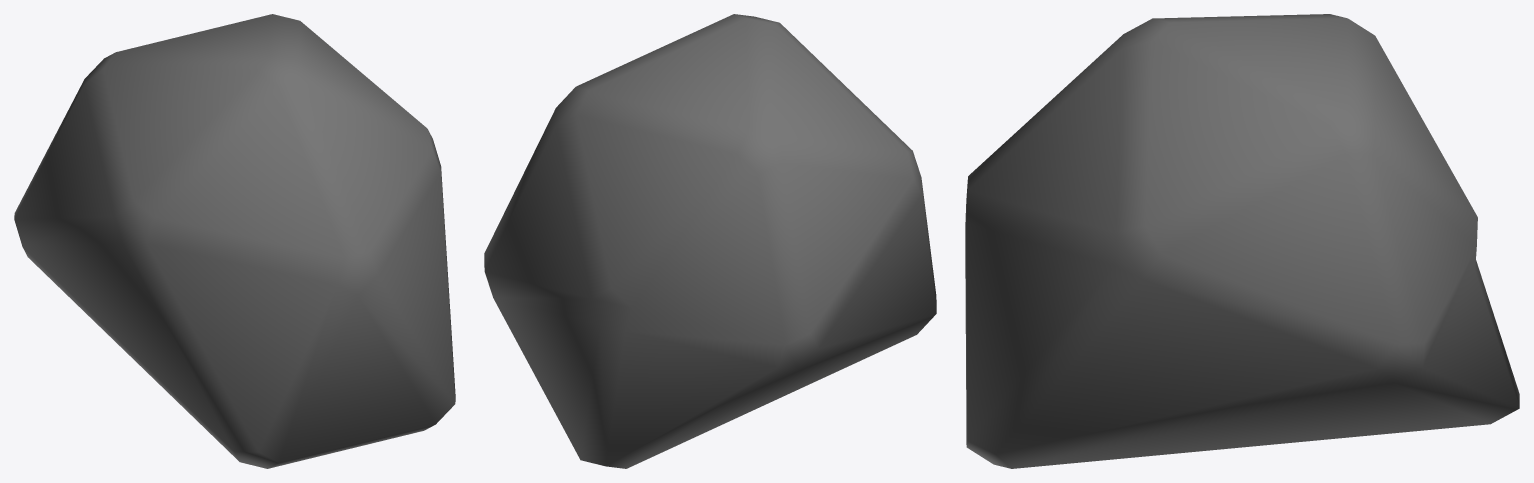
Rendered from deformedRock-02_col.fbx.
3 renders of one model, left to right at view 1: azimuth 30°, elevation 25°; view 2: azimuth 150°, elevation 25°; view 3: azimuth 270°, elevation 25°, orthographic. The views are drawn at different scales.
Parts seen in each view (by area): view 1: deformedRock-02.col; view 2: deformedRock-02.col; view 3: deformedRock-02.col.
Part boxes in pixels (x1,y1,x2,y2): deformedRock-02.col: (14,14,455,468); deformedRock-02.col: (484,14,936,468); deformedRock-02.col: (965,14,1519,468).
Size of the model in its own units: 0.063 by 0.0675 by 0.0815.
1 material, 1 textured.
